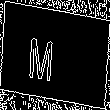M_N: (41, 27, 69, 83)
